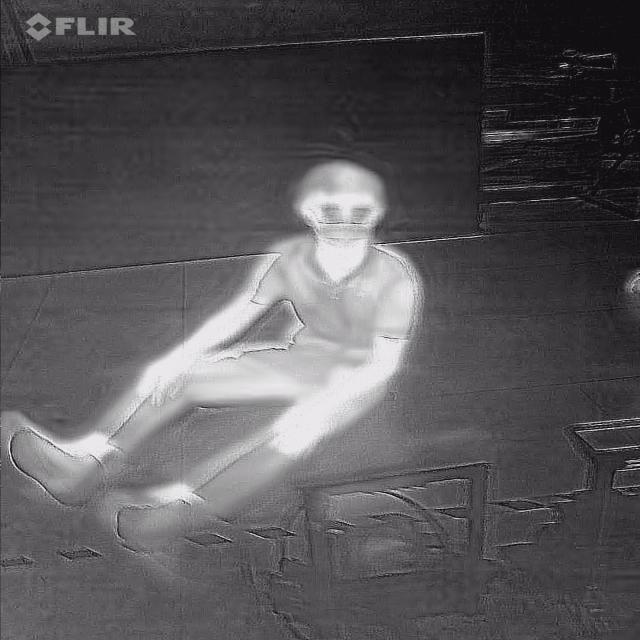Victim: (10, 156, 440, 548)
